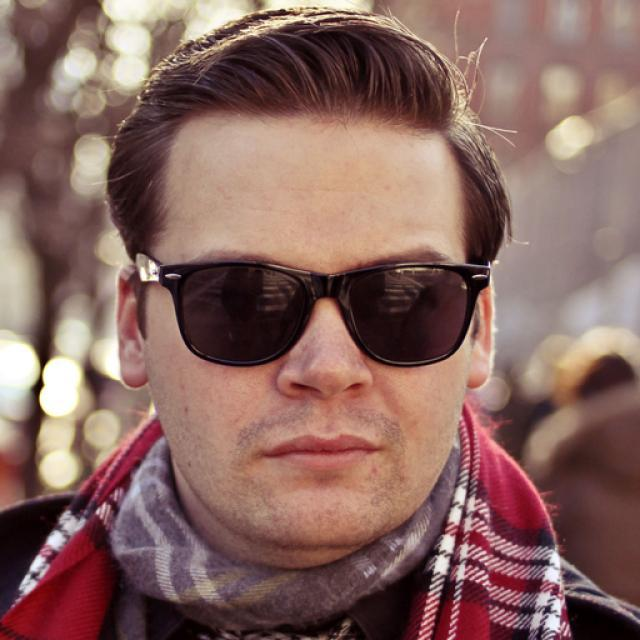neutral: (148, 122, 468, 546)
